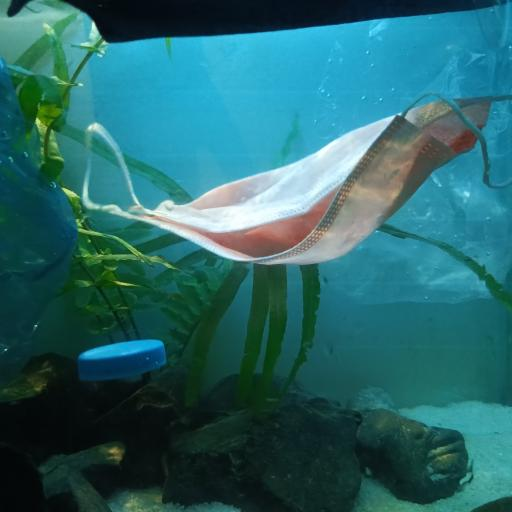bottle_cap: (80, 339, 166, 382)
mask: (81, 91, 512, 265), (7, 0, 512, 44)
plastic_bag: (0, 58, 76, 373)
